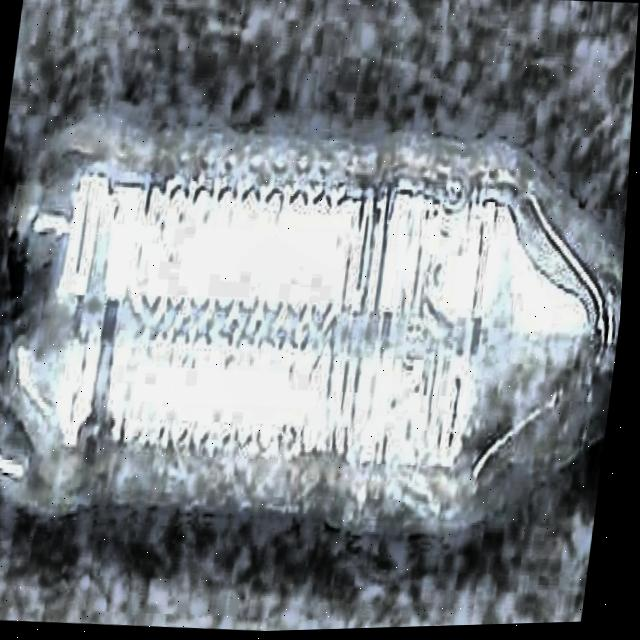plastic: (0, 80, 636, 578)
